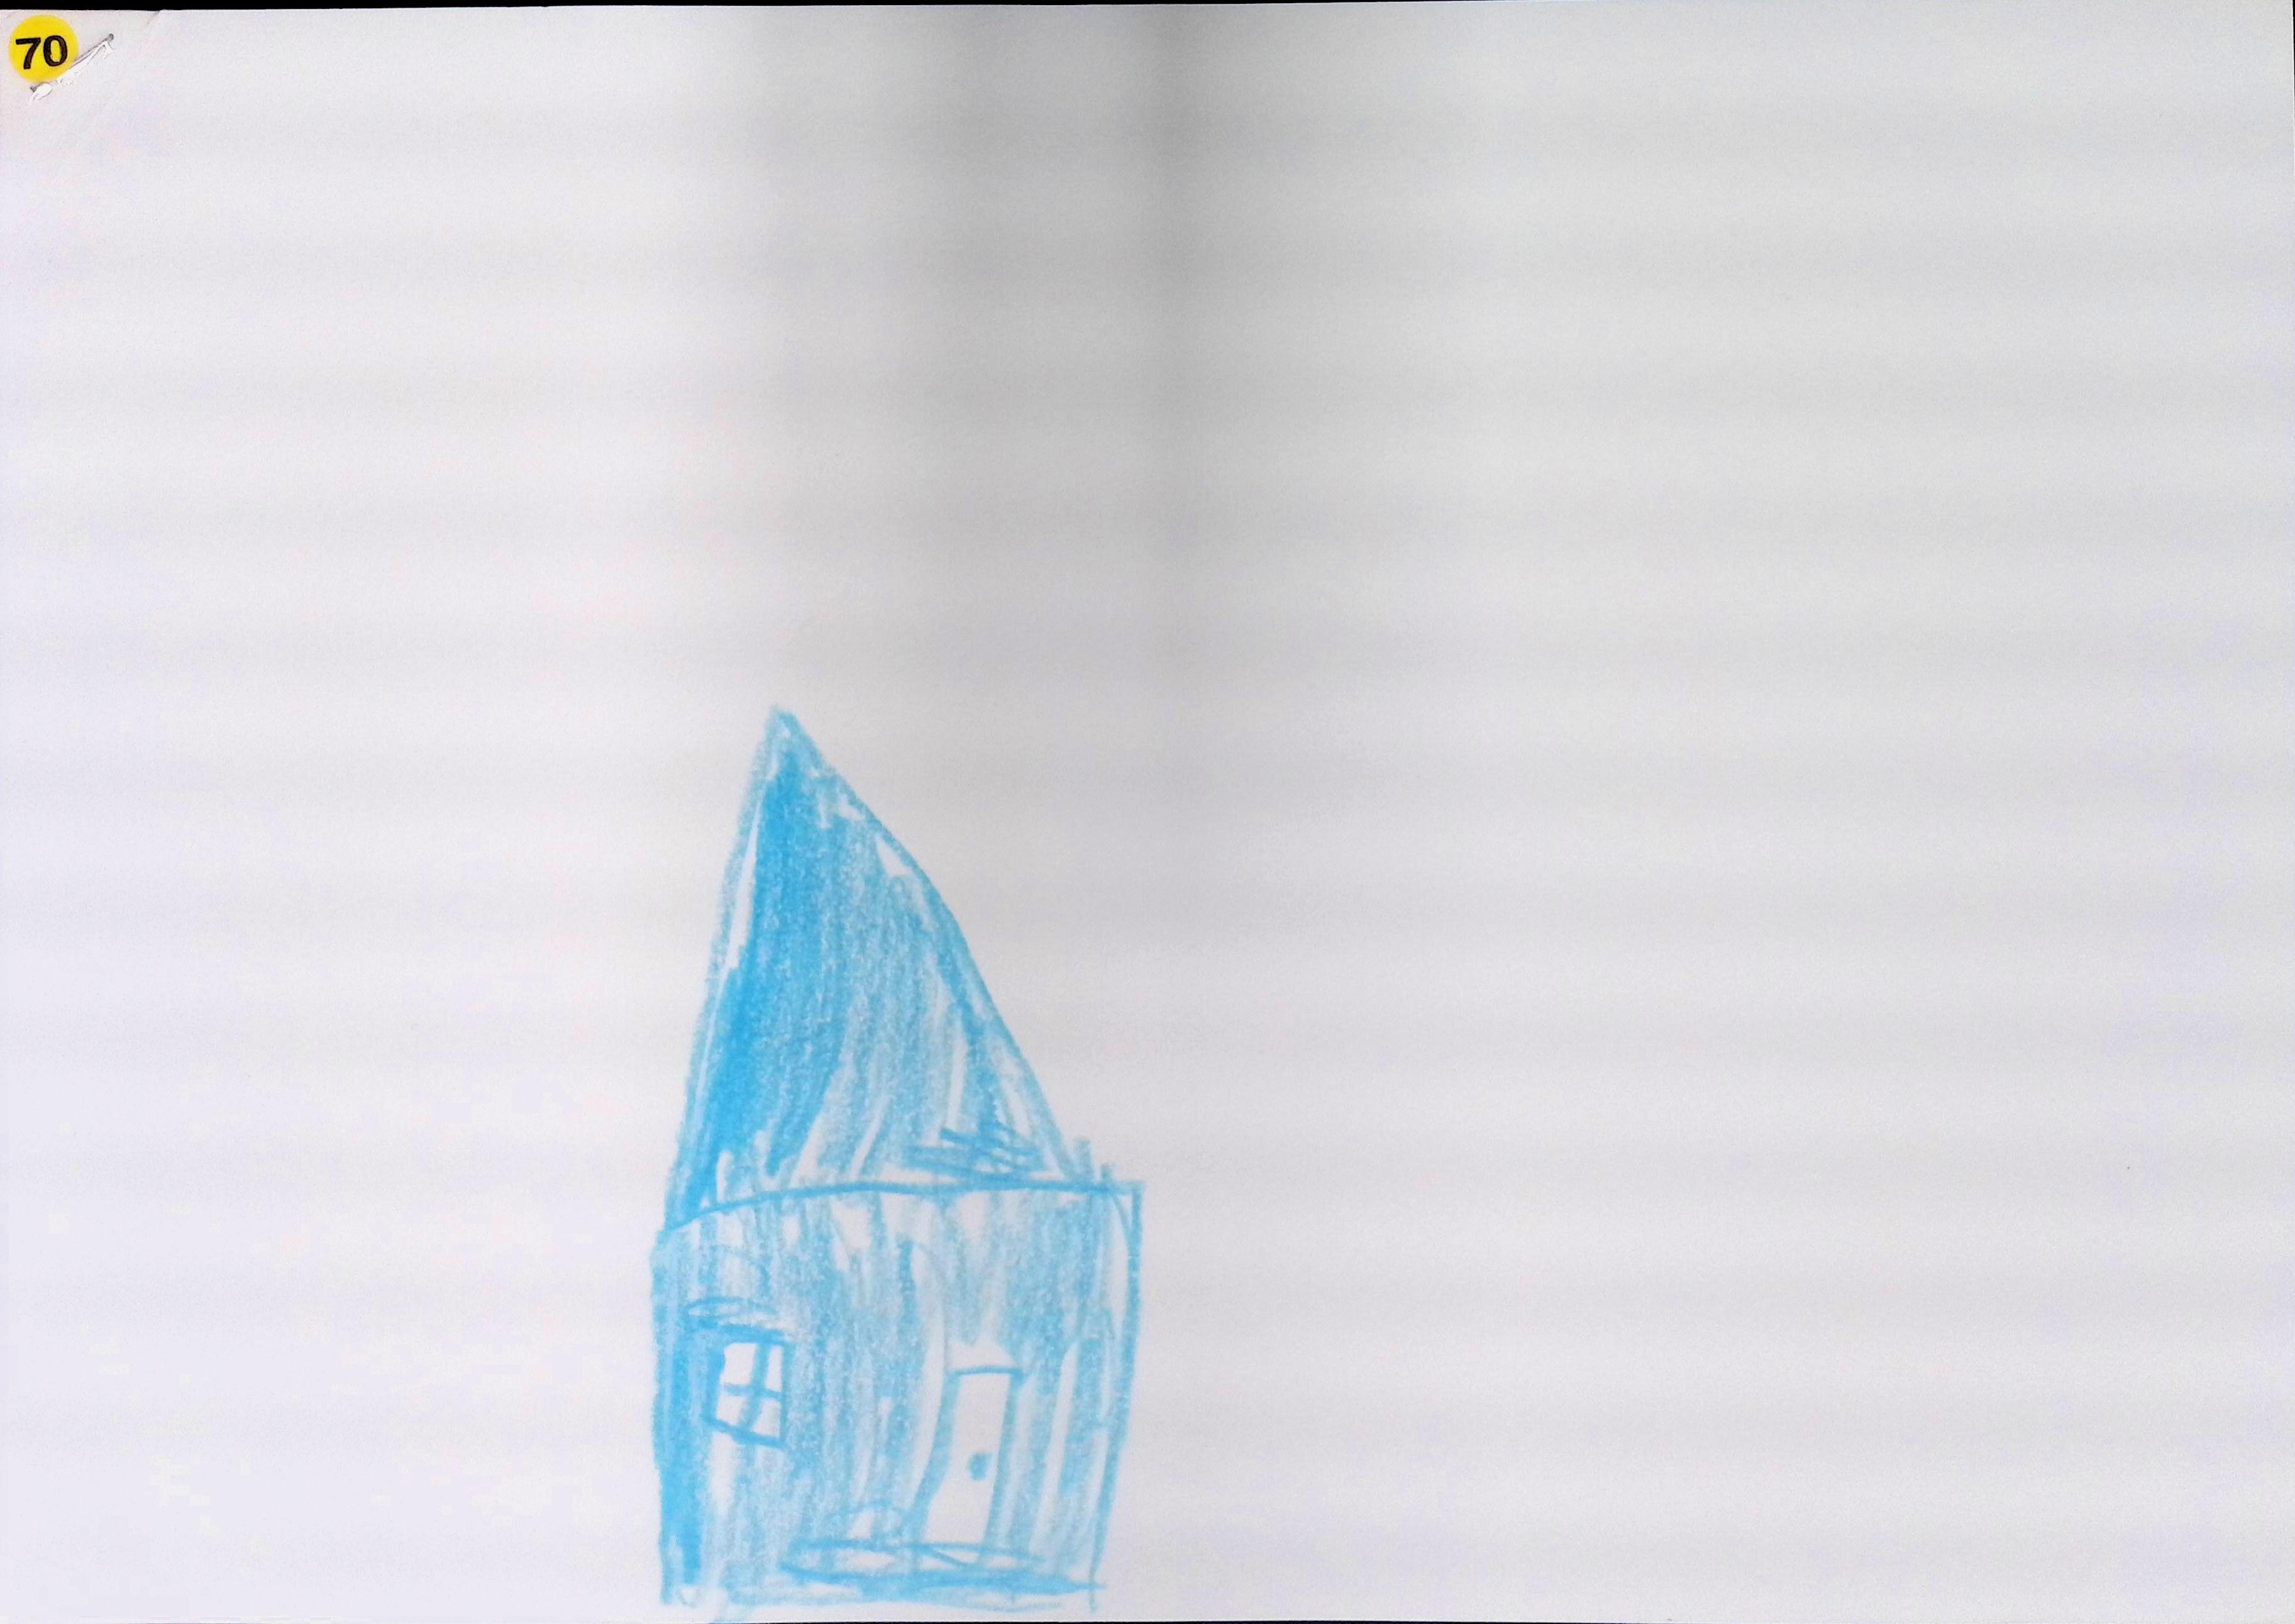door: (909, 1364, 1016, 1566)
house: (652, 710, 1140, 1613)
roof: (657, 685, 1111, 1248)
wall: (648, 1192, 1160, 1622)
window: (705, 1332, 786, 1439)
